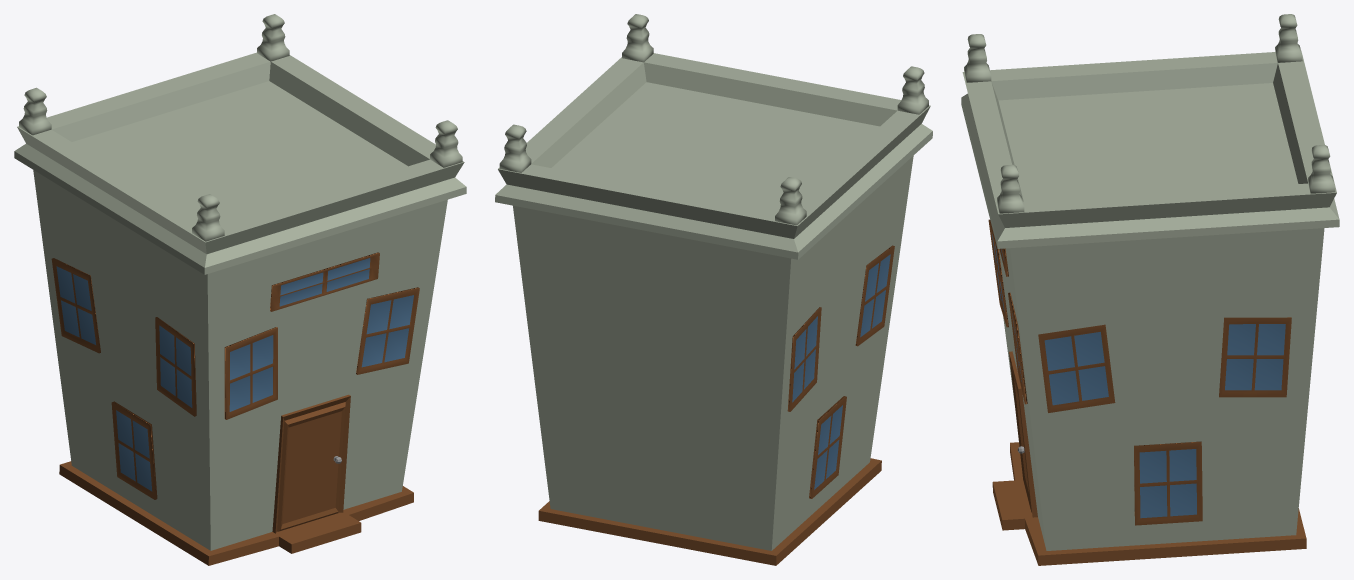
The model's file is House_3.FBX.
The picture shows the model from 3 angles, left to right: view 1: azimuth 30°, elevation 25°; view 2: azimuth 150°, elevation 25°; view 3: azimuth 270°, elevation 25°; orthographic projection. The views are drawn at different scales.
Visible parts, largest first — view 1: node_id16, node_id10, node_id12, node_id14, node_id8, node_id6; view 2: node_id16, node_id12, node_id8, node_id6; view 3: node_id16, node_id18, node_id8, node_id6, node_id14, node_id10.
Boxes of the visible parts, x1,y1,x2,y2 form: node_id16: [14, 52, 466, 550]; node_id10: [224, 252, 419, 419]; node_id12: [51, 258, 196, 499]; node_id14: [272, 394, 350, 533]; node_id8: [59, 461, 413, 565]; node_id6: [19, 14, 462, 241]; node_id16: [495, 53, 932, 550]; node_id12: [787, 245, 894, 498]; node_id8: [538, 458, 881, 565]; node_id6: [499, 14, 928, 225]; node_id16: [961, 50, 1339, 550]; node_id18: [1038, 317, 1291, 525]; node_id8: [992, 442, 1306, 565]; node_id6: [964, 14, 1335, 213]; node_id14: [1009, 351, 1037, 517]; node_id10: [988, 219, 1027, 404].
Bounding box in the file's own units: 0.4282 × 0.5201 × 0.4283.
8 materials, 7 textured.
